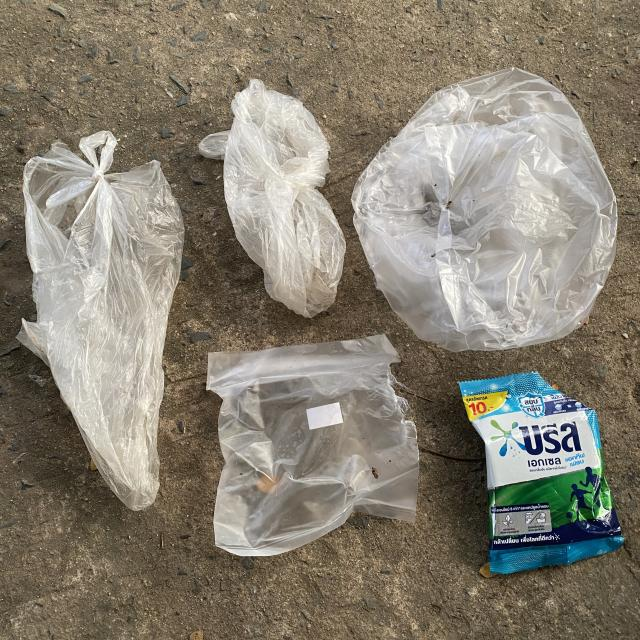Single-layer Plastic: (351, 68, 618, 351), (18, 131, 184, 510), (206, 335, 419, 556), (199, 79, 345, 316)
